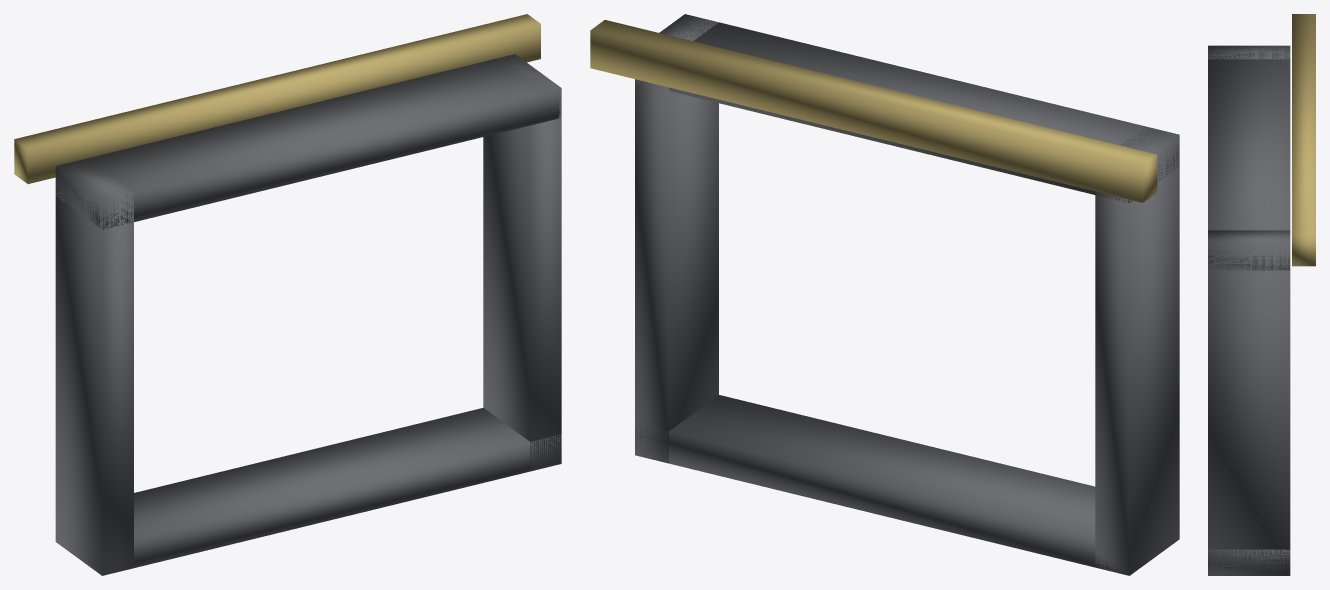
File: egress_window_motel_w118_h90_s72_d24.glb
3 renders of one model, left to right at view 1: azimuth 30°, elevation 25°; view 2: azimuth 150°, elevation 25°; view 3: azimuth 270°, elevation 25°, orthographic. The views are drawn at different scales.
Parts seen in each view (by area): view 1: world; view 2: world; view 3: world.
Part boxes in pixels (box(x1,y1,x2,y2)): world: box(14, 14, 561, 575); world: box(590, 14, 1179, 575); world: box(1208, 14, 1315, 575).
Size of the model in its own units: 1.53 by 1.13 by 0.315.
